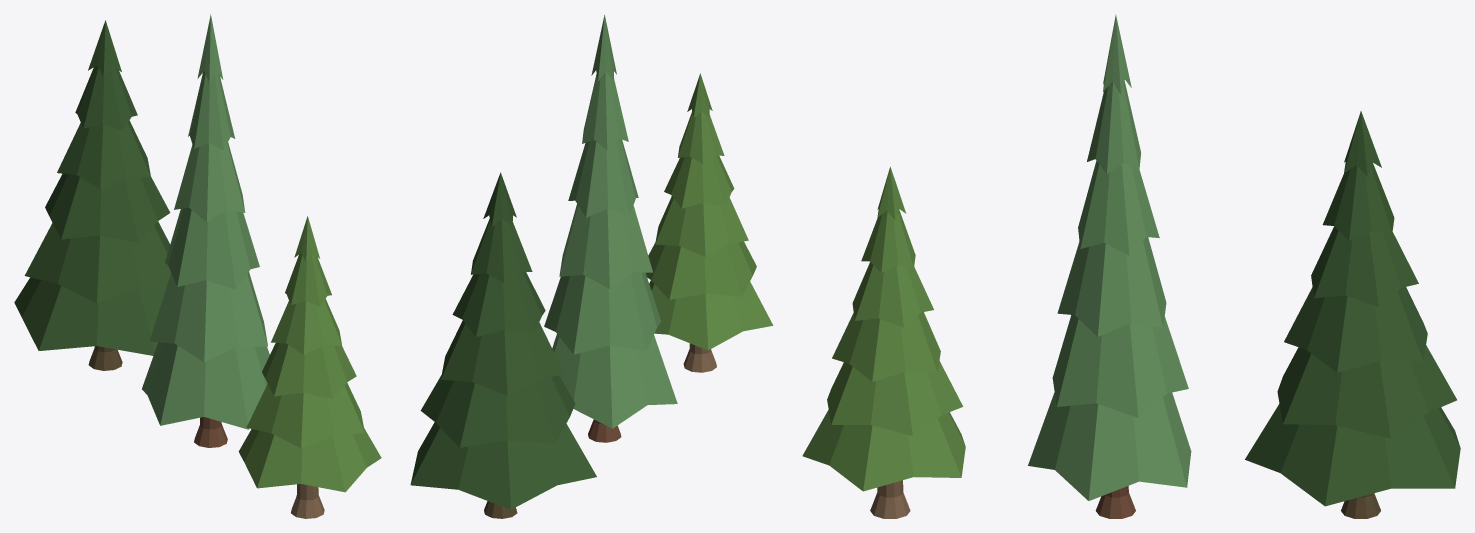
The model's file is SingleTree.glb.
3 views of the same model, side by side, from view 1: azimuth 30°, elevation 25°; view 2: azimuth 150°, elevation 25°; view 3: azimuth 270°, elevation 25° (orthographic). The views are drawn at different scales.
Visible parts, largest first — view 1: Tree2, Tree1, Tree3; view 2: Tree2, Tree1, Tree3; view 3: Tree2, Tree1, Tree3.
Boxes of the visible parts, x1=… form: Tree2: x1=14, y1=20, x2=170, y2=370; Tree1: x1=142, y1=14, x2=269, y2=447; Tree3: x1=238, y1=216, x2=381, y2=518; Tree2: x1=410, y1=172, x2=596, y2=518; Tree1: x1=544, y1=15, x2=677, y2=442; Tree3: x1=646, y1=73, x2=773, y2=372; Tree2: x1=1245, y1=111, x2=1460, y2=518; Tree1: x1=1028, y1=14, x2=1191, y2=518; Tree3: x1=802, y1=166, x2=965, y2=518.
Size of the model in its own units: 7.49 by 18.57 by 22.3.
